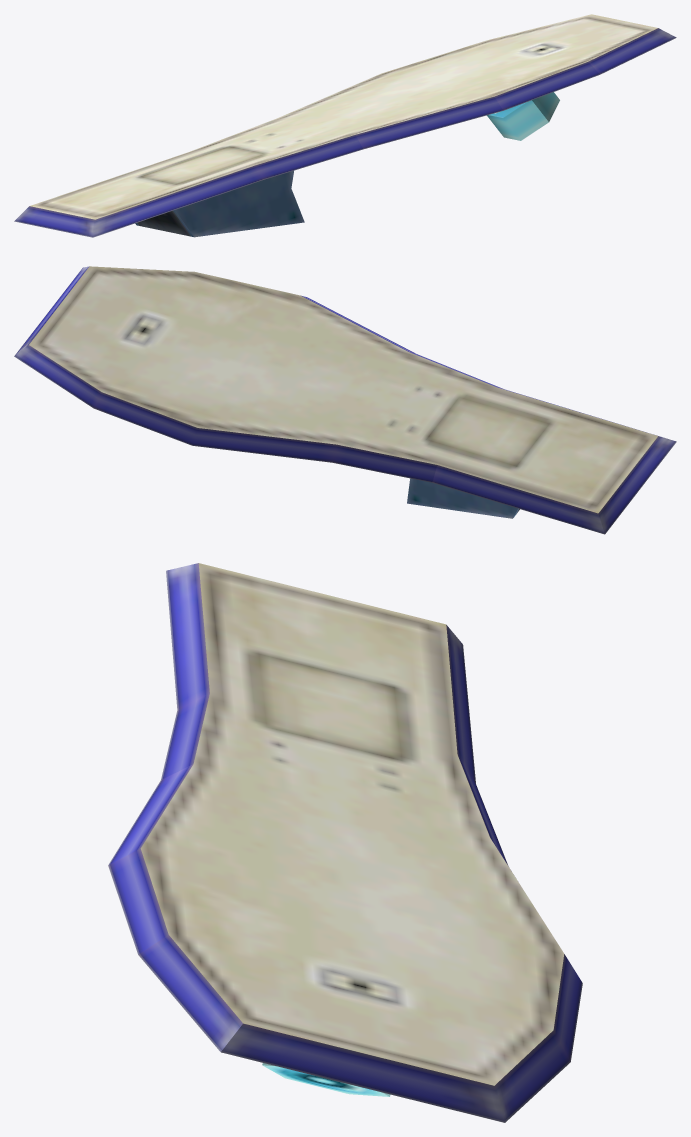
The model's file is eureka_vol01_def.ico.obj.
3 views of the same model, one above another, from view 1: azimuth 30°, elevation 25°; view 2: azimuth 150°, elevation 25°; view 3: azimuth 270°, elevation 25° (orthographic). The views are drawn at different scales.
Size of the model in its own units: 3.66 by 0.731 by 1.29.
1 material, 1 textured.
